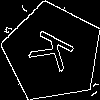K: (28, 28, 85, 79)
